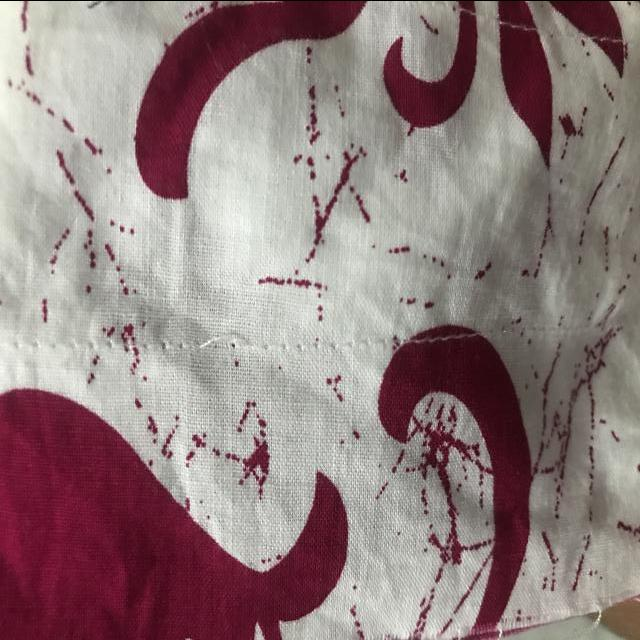Skip: (189, 300, 262, 367)
